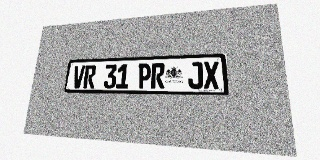1: (116, 64, 129, 88)
3: (103, 64, 117, 88)
J: (188, 62, 203, 89)
P: (137, 63, 151, 89)
R: (151, 63, 165, 89), (83, 65, 97, 88)
V: (72, 65, 85, 88)
X: (203, 61, 220, 89)
